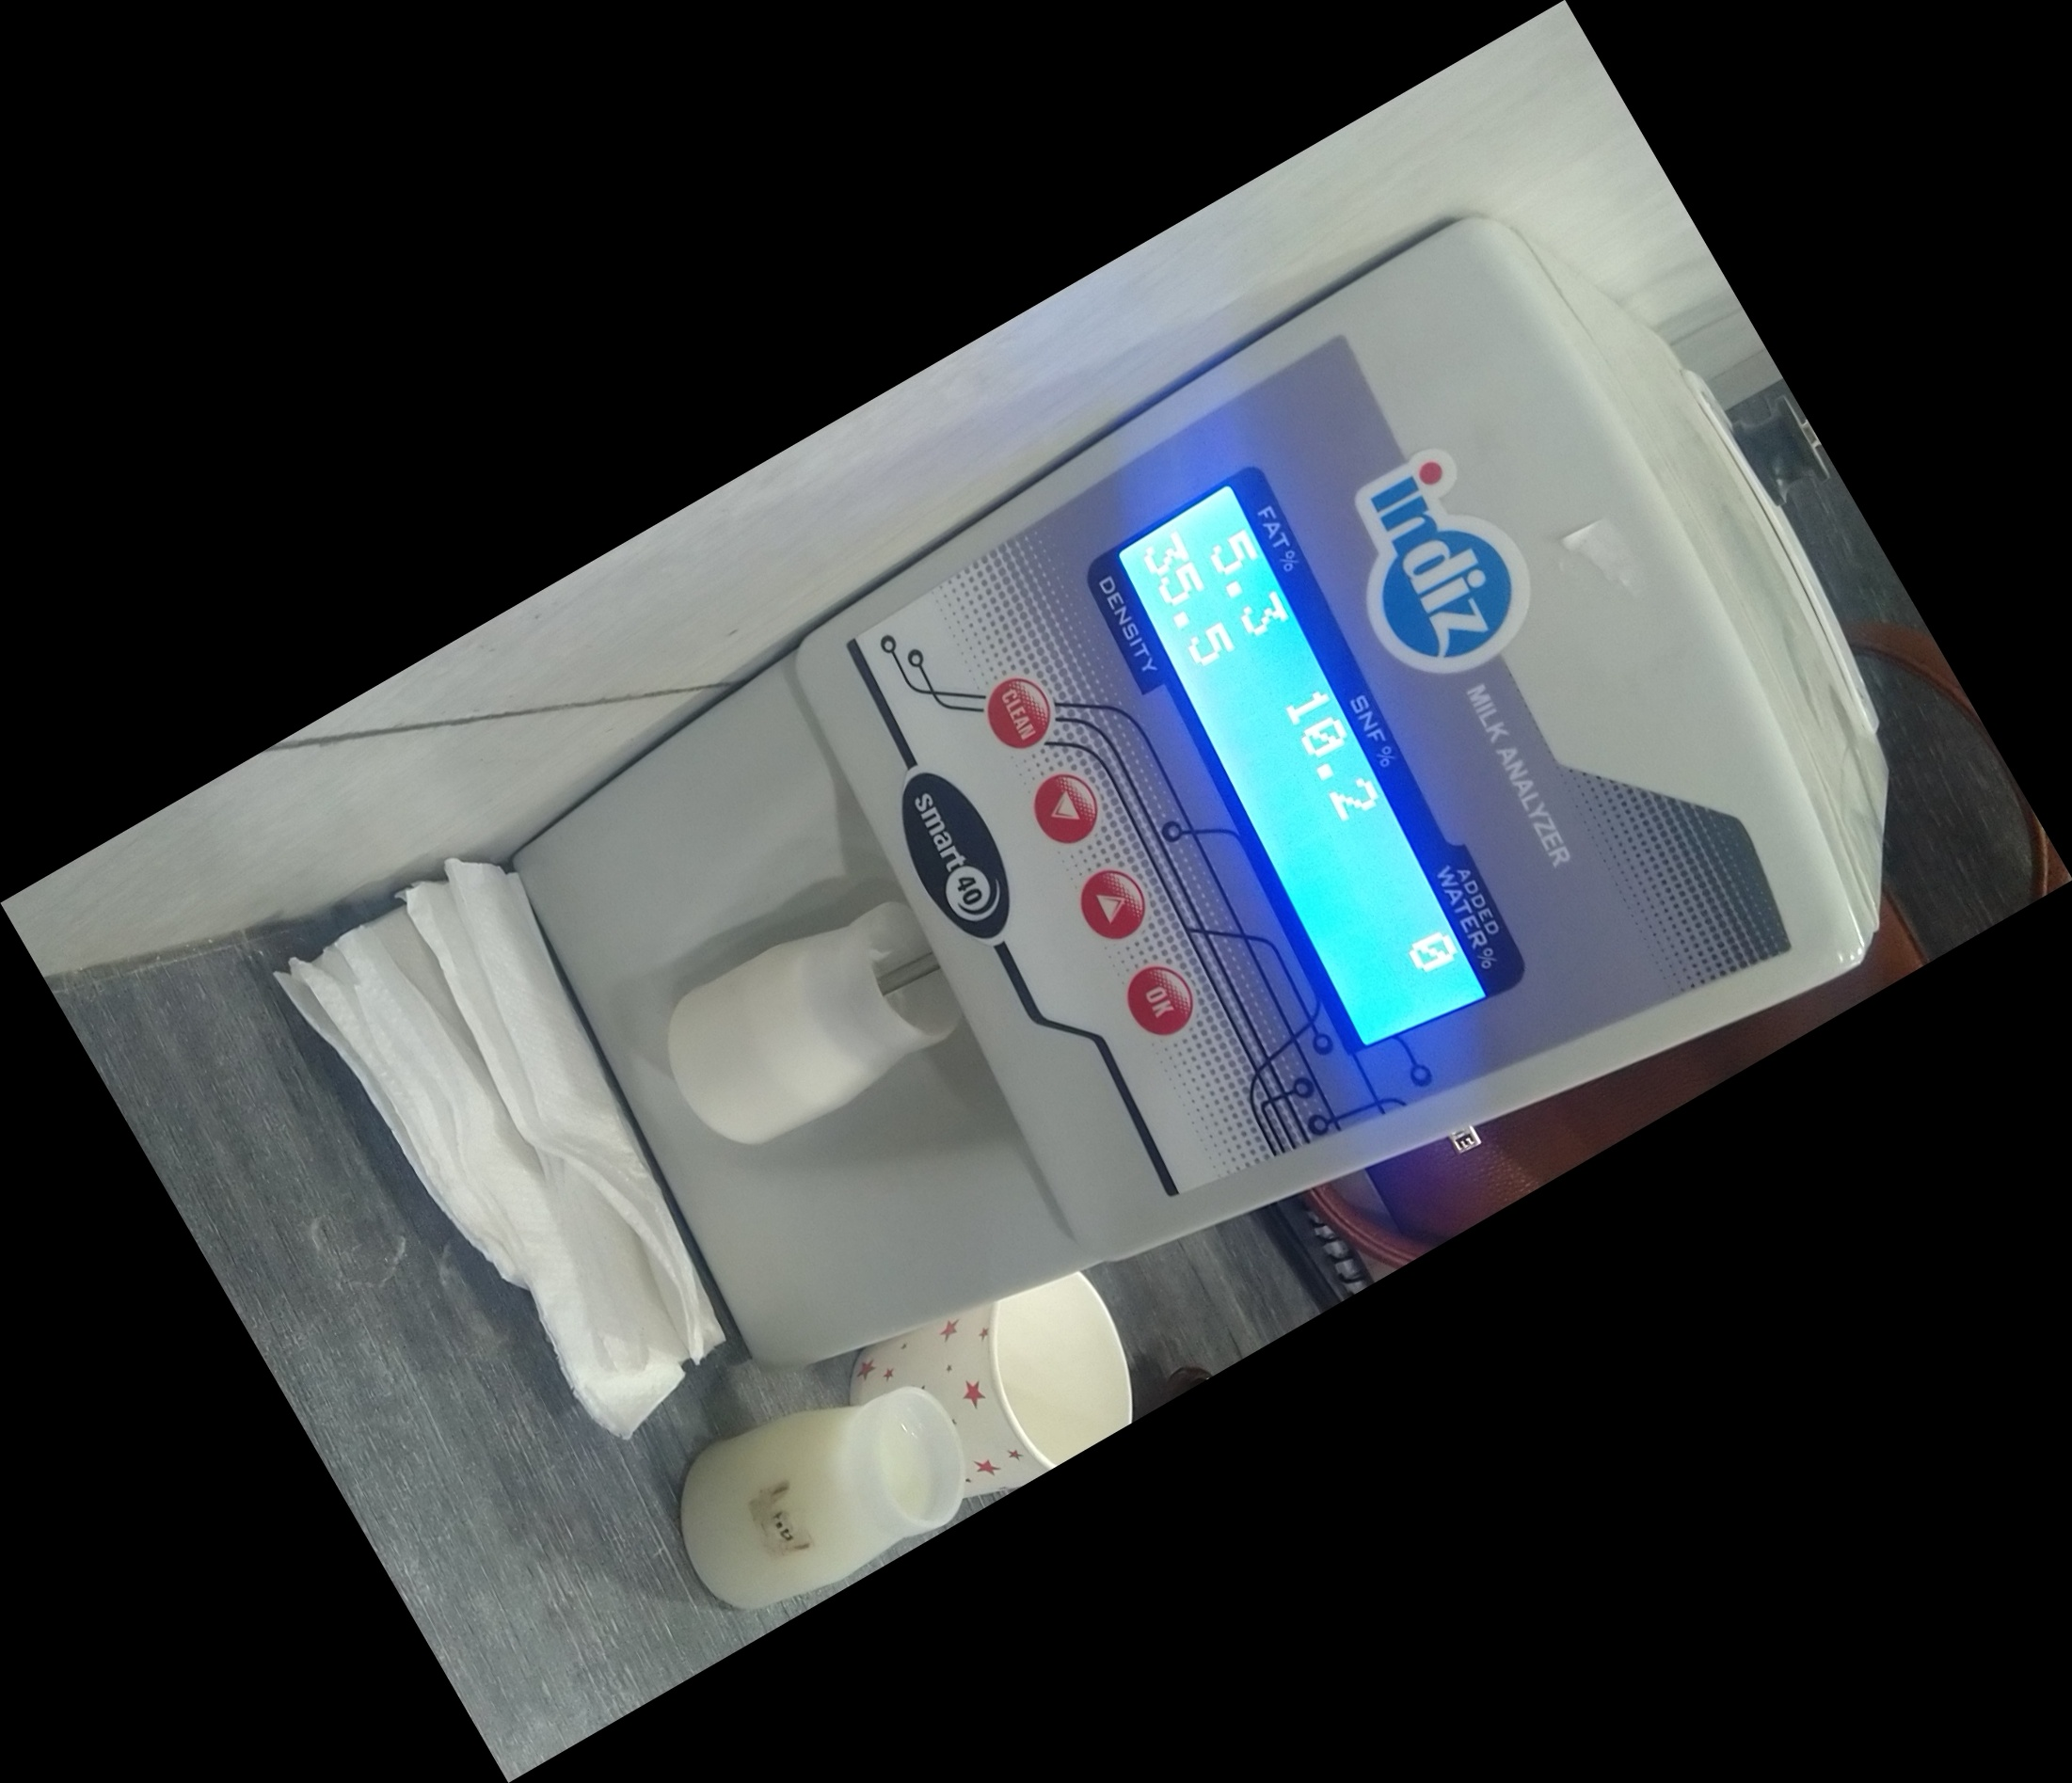lcd: (1077, 462, 1528, 1048)
